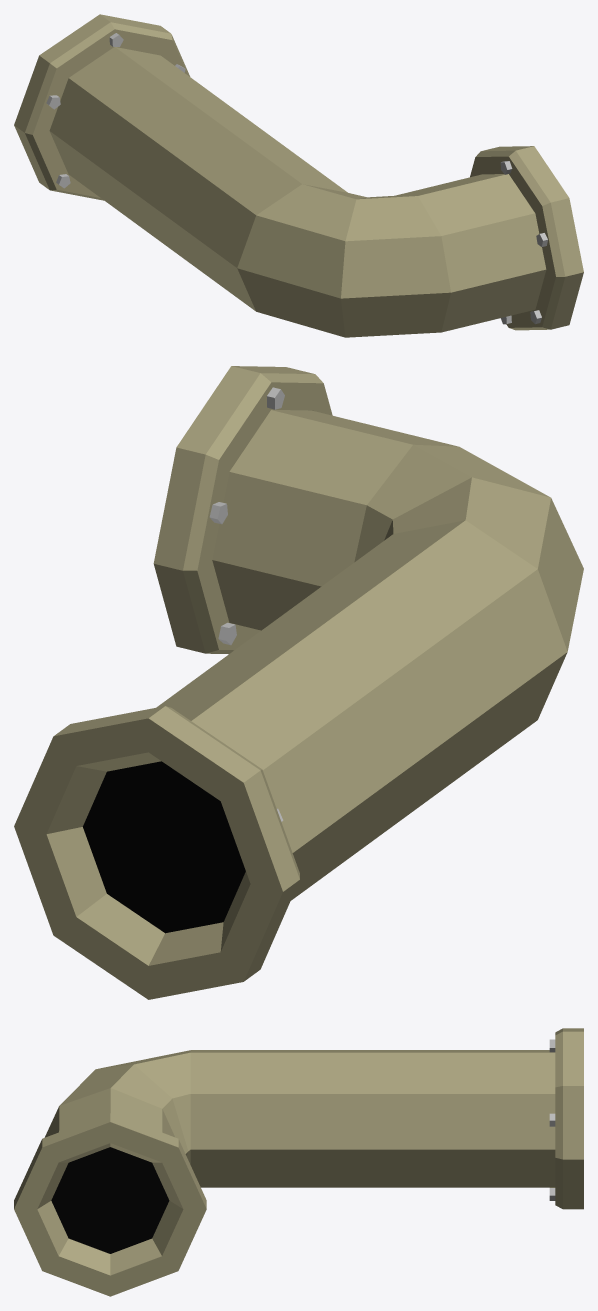
3 views of the same model, one above another, from view 1: azimuth 30°, elevation 25°; view 2: azimuth 150°, elevation 25°; view 3: azimuth 270°, elevation 25° (orthographic). The views are drawn at different scales.
Visible parts, largest first — view 1: ShortCurvedPipe; view 2: ShortCurvedPipe; view 3: ShortCurvedPipe.
Boxes of the visible parts, x1=… form: ShortCurvedPipe: x1=14, y1=14, x2=583, y2=337; ShortCurvedPipe: x1=14, y1=366, x2=583, y2=999; ShortCurvedPipe: x1=14, y1=1028, x2=583, y2=1296.
Size of the model in its own units: 425 by 264 by 780.
